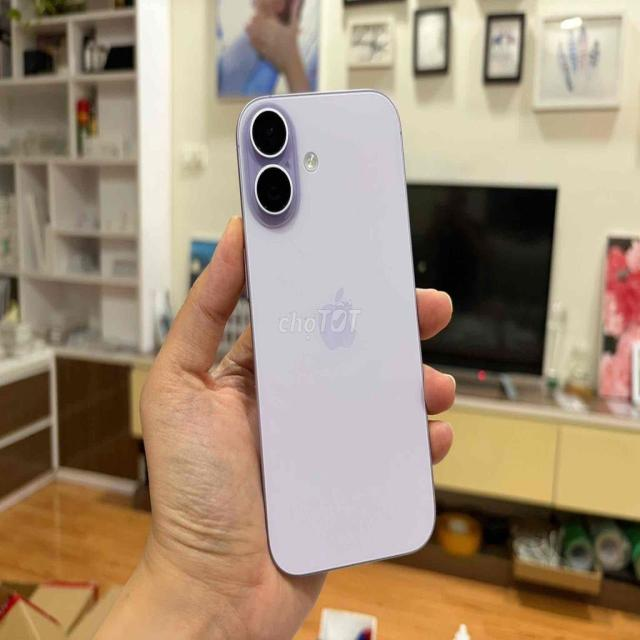gen_17: (233, 88, 448, 574)
